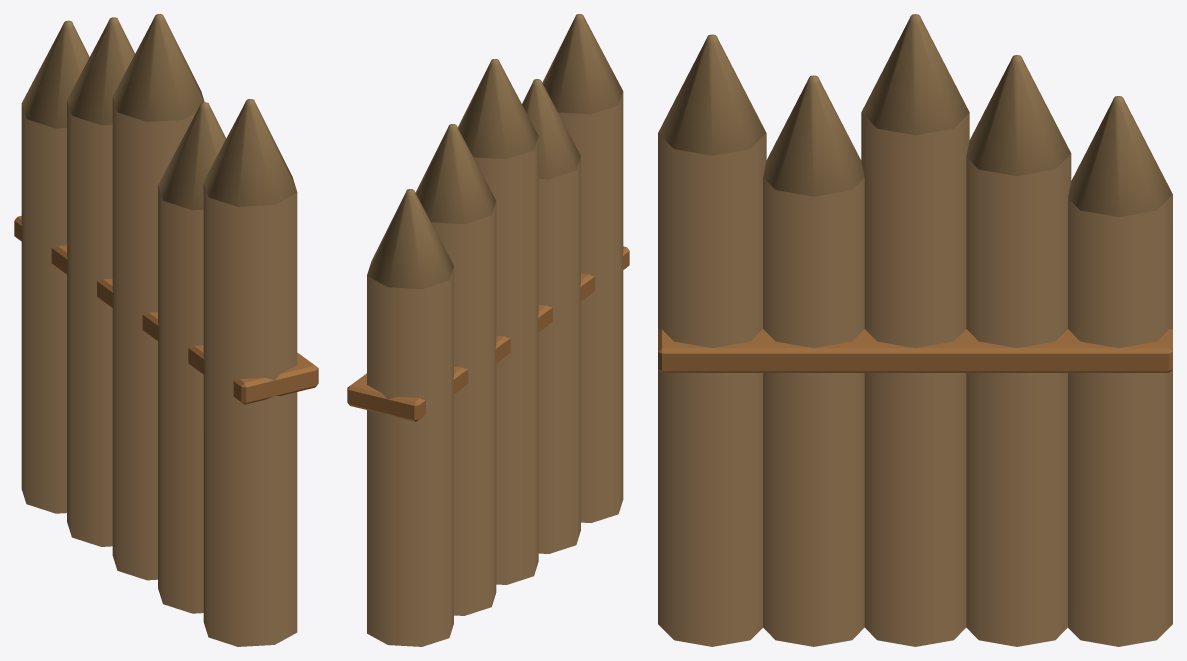
Rendered from prop_palisade9_70d1.glb.
The picture shows the model from 3 angles, left to right: view 1: azimuth 30°, elevation 25°; view 2: azimuth 150°, elevation 25°; view 3: azimuth 270°, elevation 25°; orthographic projection. The views are drawn at different scales.
Visible parts, largest first — view 1: prop_palisade9_70d1; view 2: prop_palisade9_70d1; view 3: prop_palisade9_70d1.
Boxes of the visible parts, bbox=[...] form: prop_palisade9_70d1: bbox=[14, 14, 318, 646]; prop_palisade9_70d1: bbox=[347, 14, 629, 646]; prop_palisade9_70d1: bbox=[658, 14, 1172, 646].
Bounding box in the file's own units: 0.221 × 1.32 × 1.01.
1 material, 1 textured.
